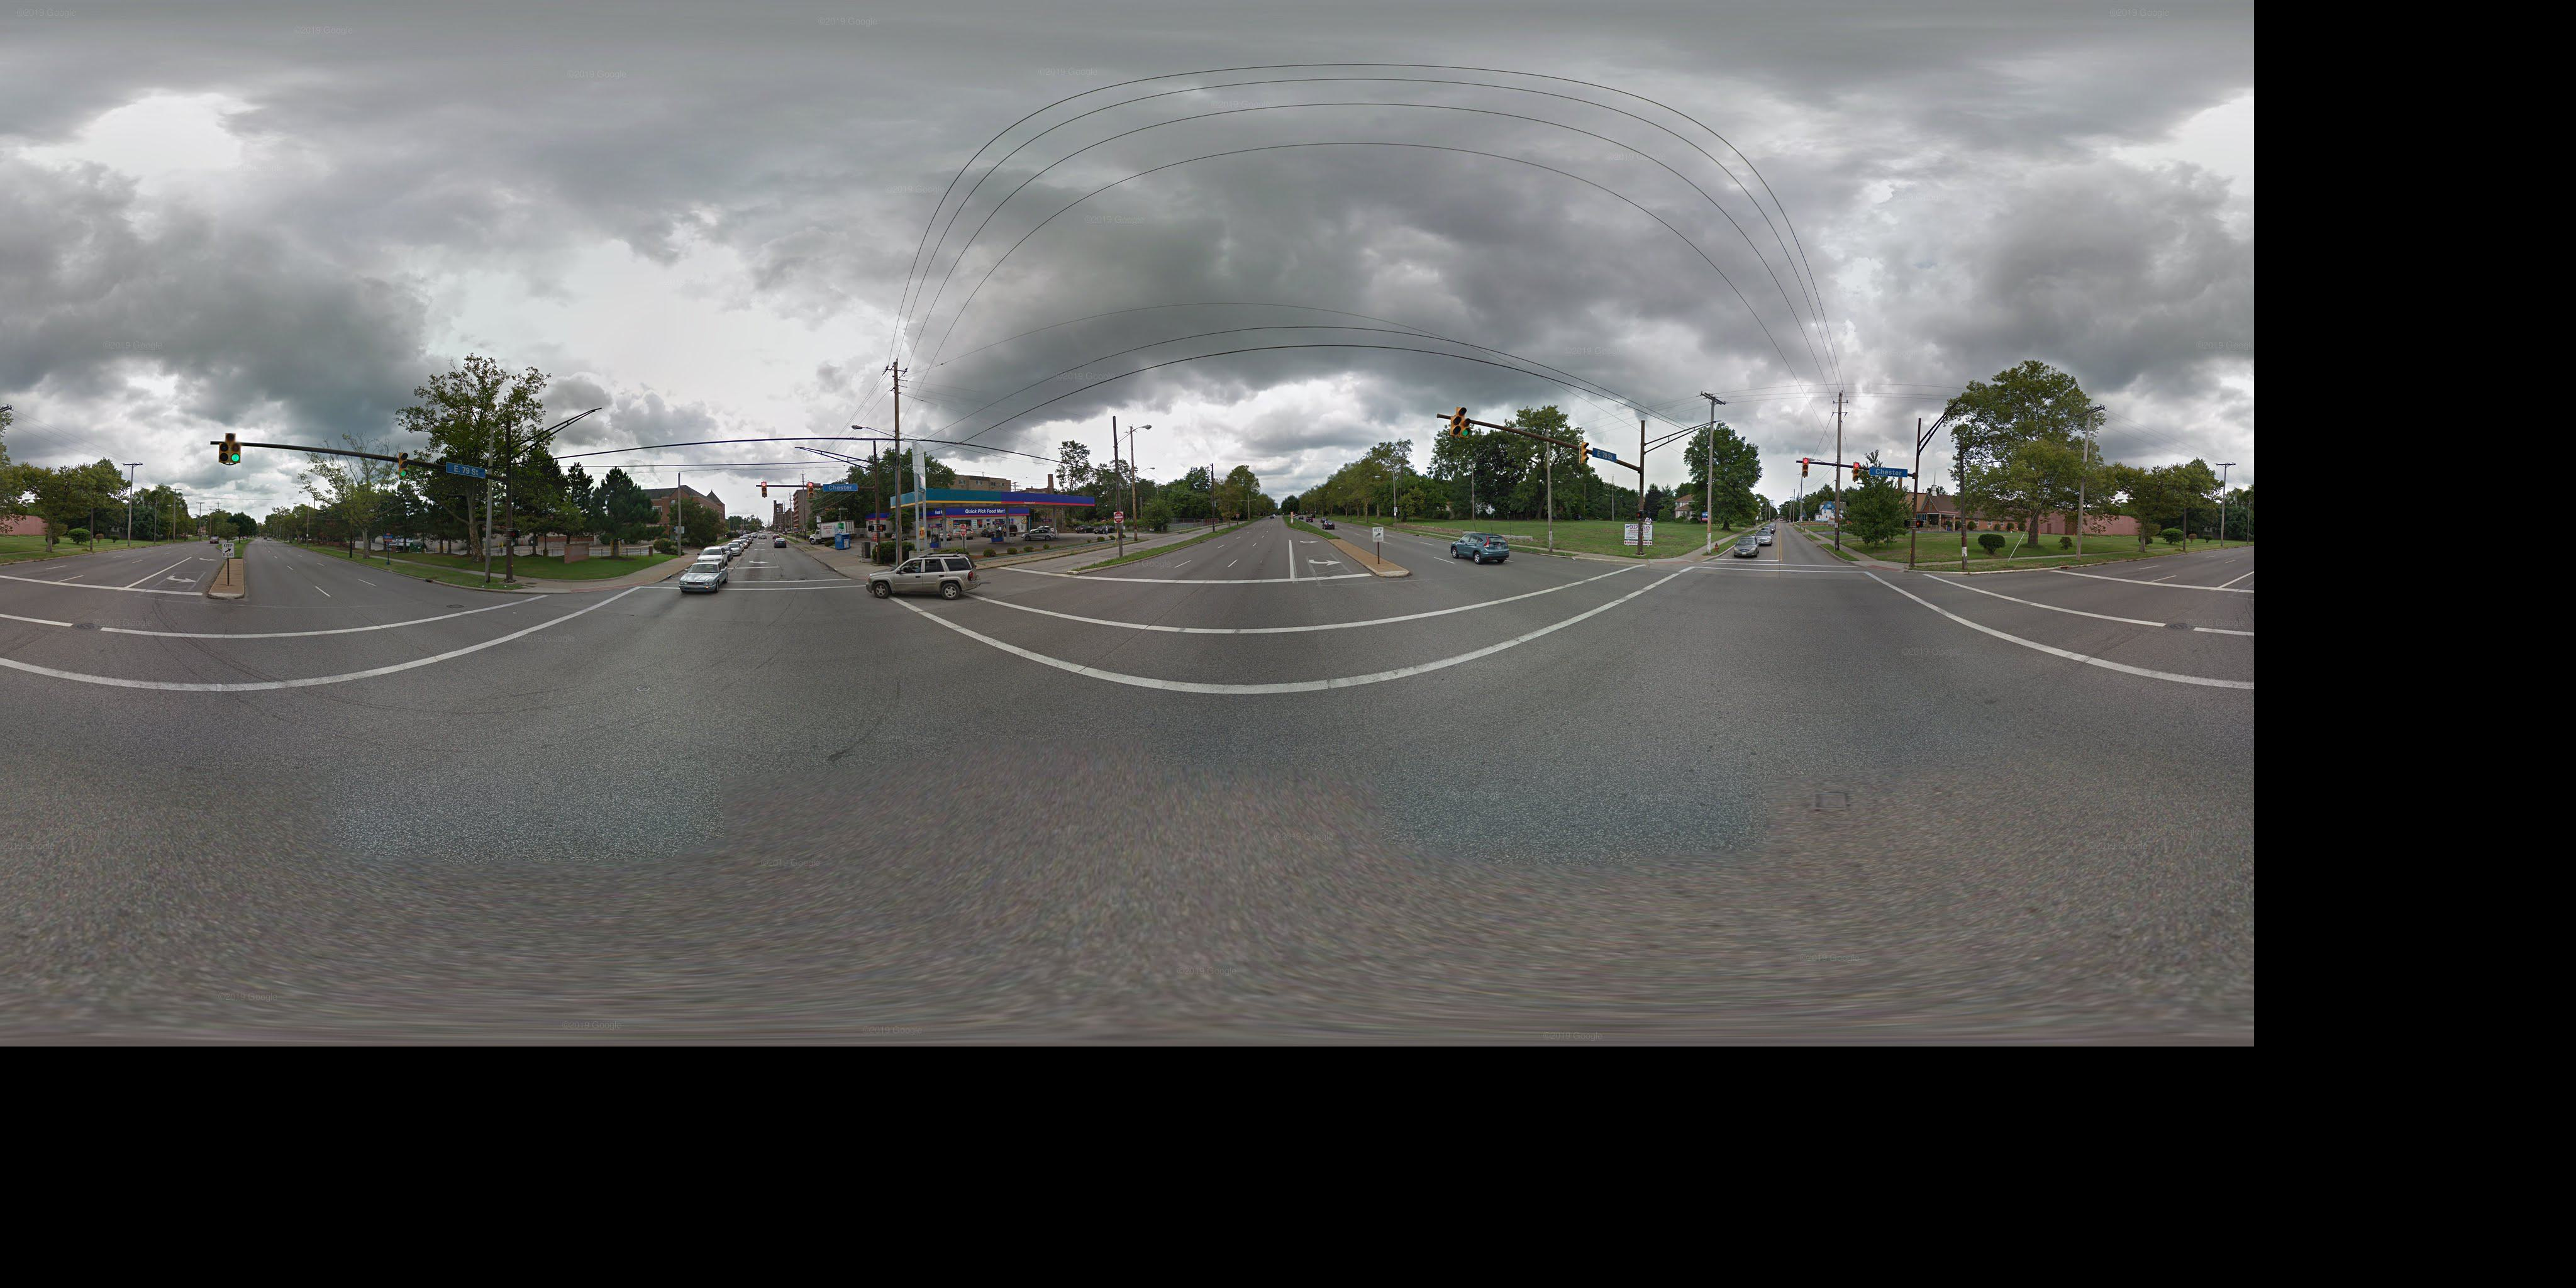Curb Ramp: (560, 578, 659, 598), (1861, 557, 1904, 580), (1643, 552, 1700, 568)
